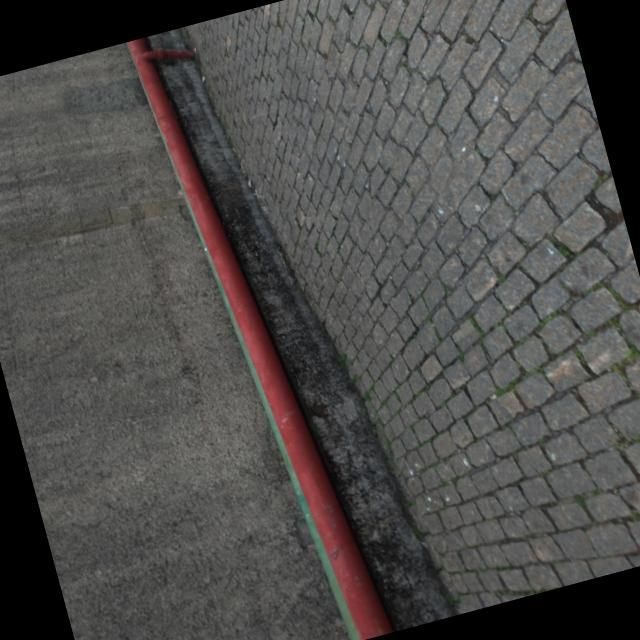gas: (127, 36, 392, 640)
